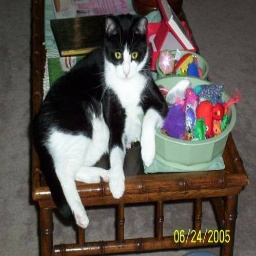cat: (27, 19, 165, 219)
